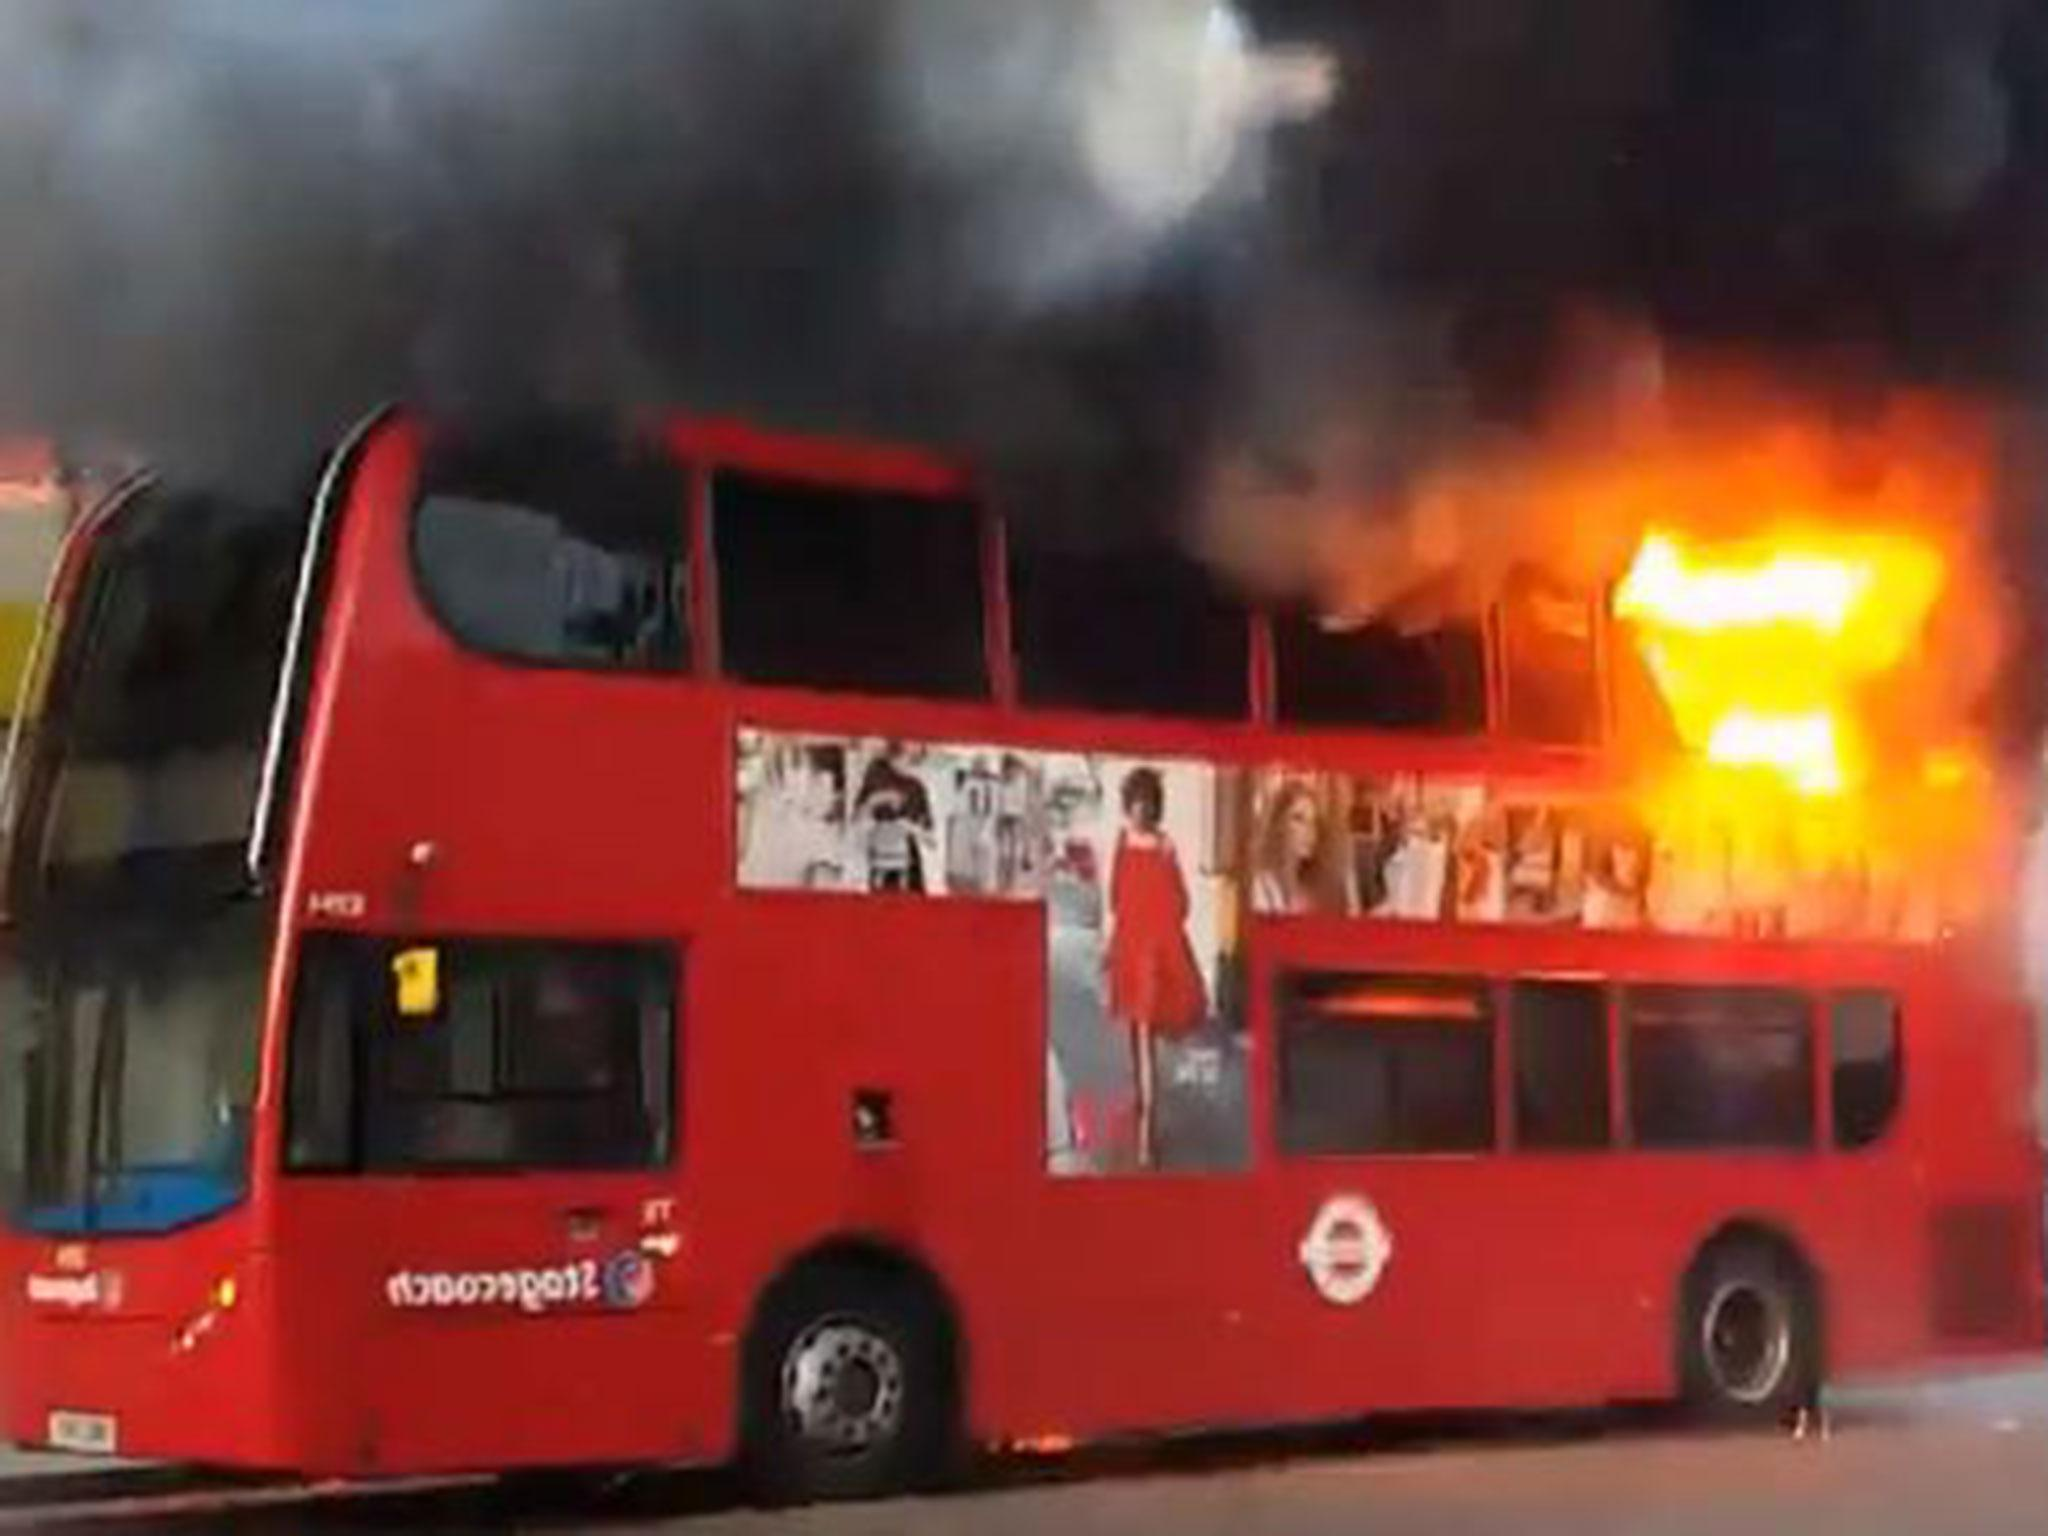fire: (1571, 460, 1975, 858)
